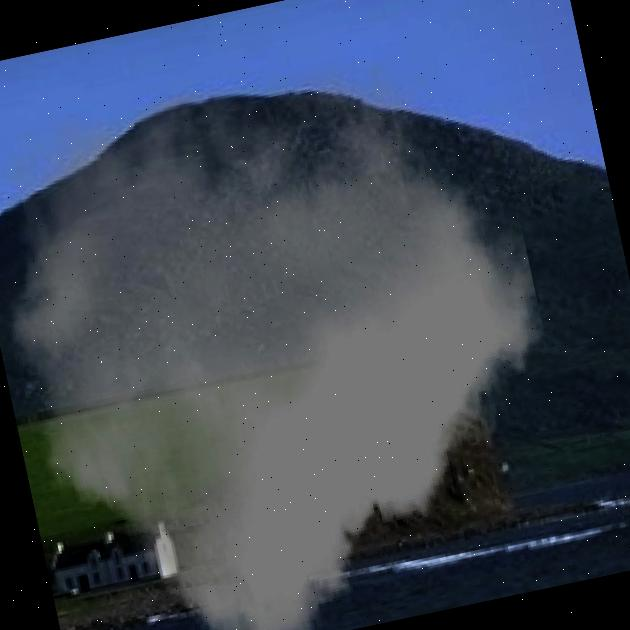smoke: (0, 32, 595, 630)
